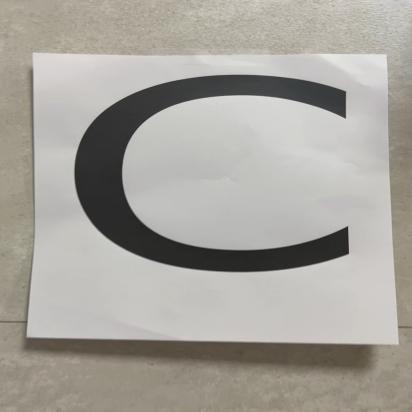seat: (26, 50, 384, 341)
